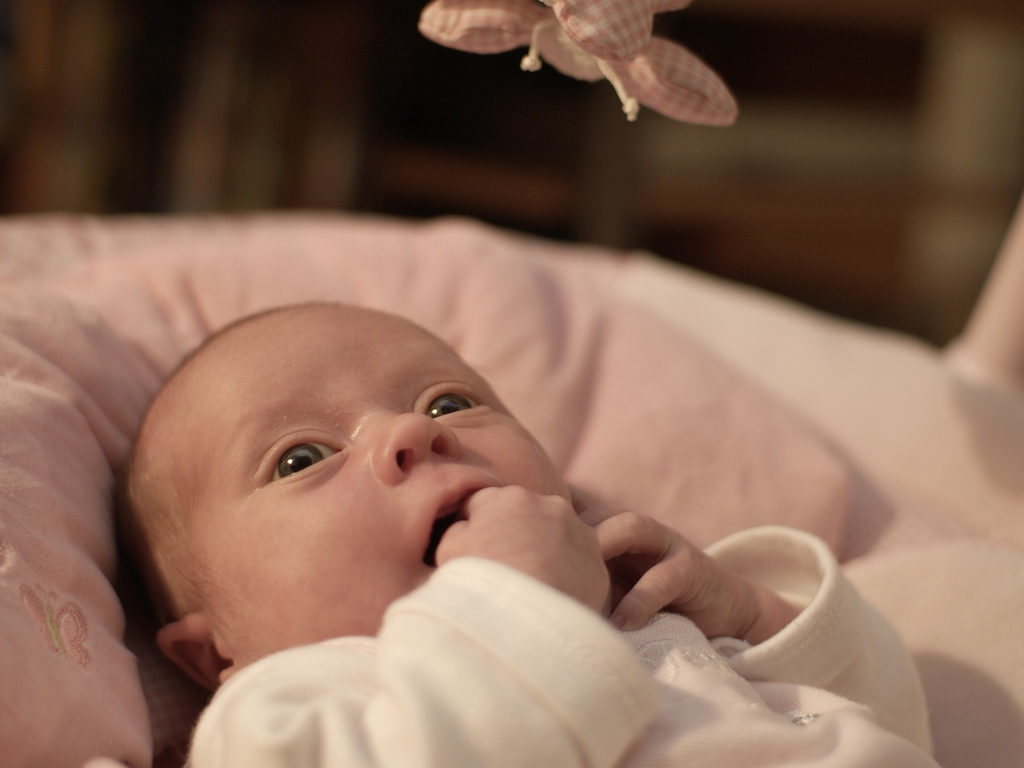Human-face: (141, 296, 588, 660)
